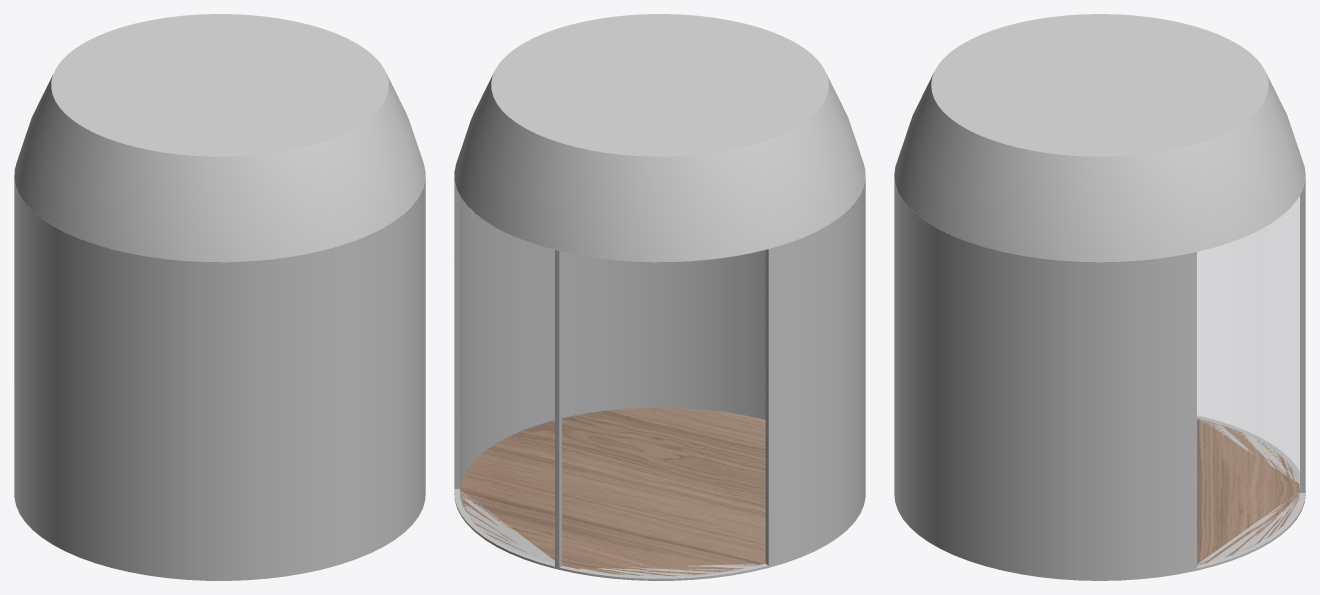
File: DroneVRroom.fbx
3 renders of one model, left to right at view 1: azimuth 30°, elevation 25°; view 2: azimuth 150°, elevation 25°; view 3: azimuth 270°, elevation 25°, orthographic.
Parts seen in each view (by area): view 1: Cylinder.007; view 2: Cylinder.007, Cylinder.002; view 3: Cylinder.007, Cylinder.006, Cylinder.002.
Boxes of the visible parts, x1,y1,x2,y2 form: Cylinder.007: [14, 14, 425, 580]; Cylinder.007: [454, 14, 865, 580]; Cylinder.002: [460, 407, 765, 576]; Cylinder.007: [894, 14, 1305, 580]; Cylinder.006: [1197, 196, 1299, 544]; Cylinder.002: [1197, 418, 1299, 565].
Bounding box in the file's own units: 639 × 701 × 639.
